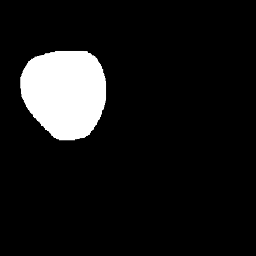mass: (24, 54, 107, 119)
